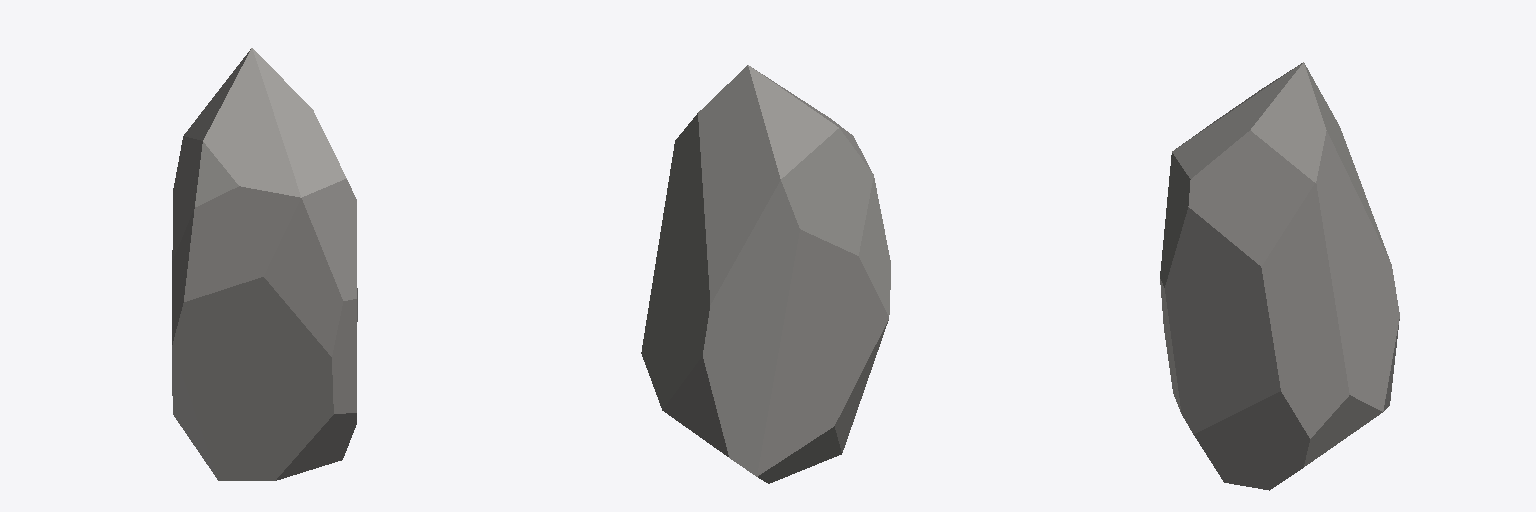
File: Shared_Prop_Boulder_3.obj
3 views of the same model, side by side, from view 1: azimuth 30°, elevation 25°; view 2: azimuth 150°, elevation 25°; view 3: azimuth 270°, elevation 25° (orthographic).
Visible parts, largest first — view 1: object1; view 2: object1; view 3: object1.
Part boxes in pixels (x1,y1,x2,y2): object1: (172, 48, 357, 480); object1: (641, 65, 890, 483); object1: (1160, 62, 1399, 490).
Size of the model in its own units: 0.9635 by 1.78 by 0.9767.